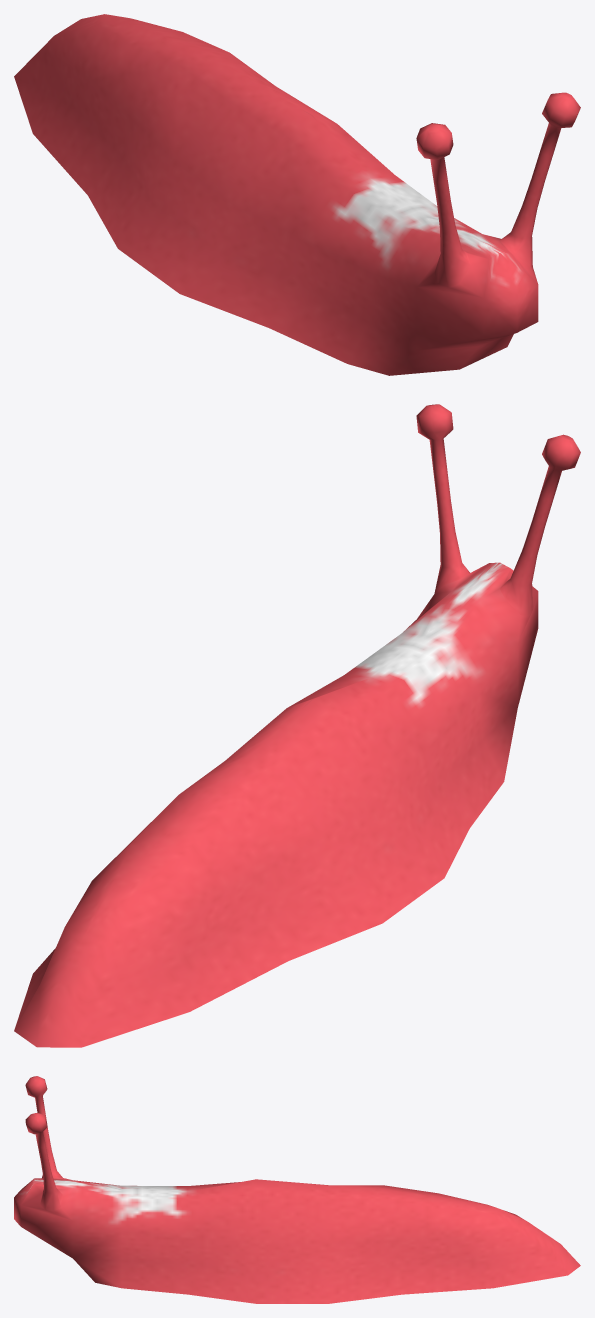
File: snailBody.fbx
3 renders of one model, top to bottom at view 1: azimuth 30°, elevation 25°; view 2: azimuth 150°, elevation 25°; view 3: azimuth 270°, elevation 25°, orthographic. The views are drawn at different scales.
Visible parts, largest first — view 1: pCube1; view 2: pCube1; view 3: pCube1.
Boxes of the visible parts, box(x1,y1,x2,y2) form: pCube1: box(14, 14, 580, 375); pCube1: box(14, 404, 580, 1047); pCube1: box(14, 1076, 580, 1303).
Bounding box in the file's own units: 3.38 × 3.52 × 10.61.
